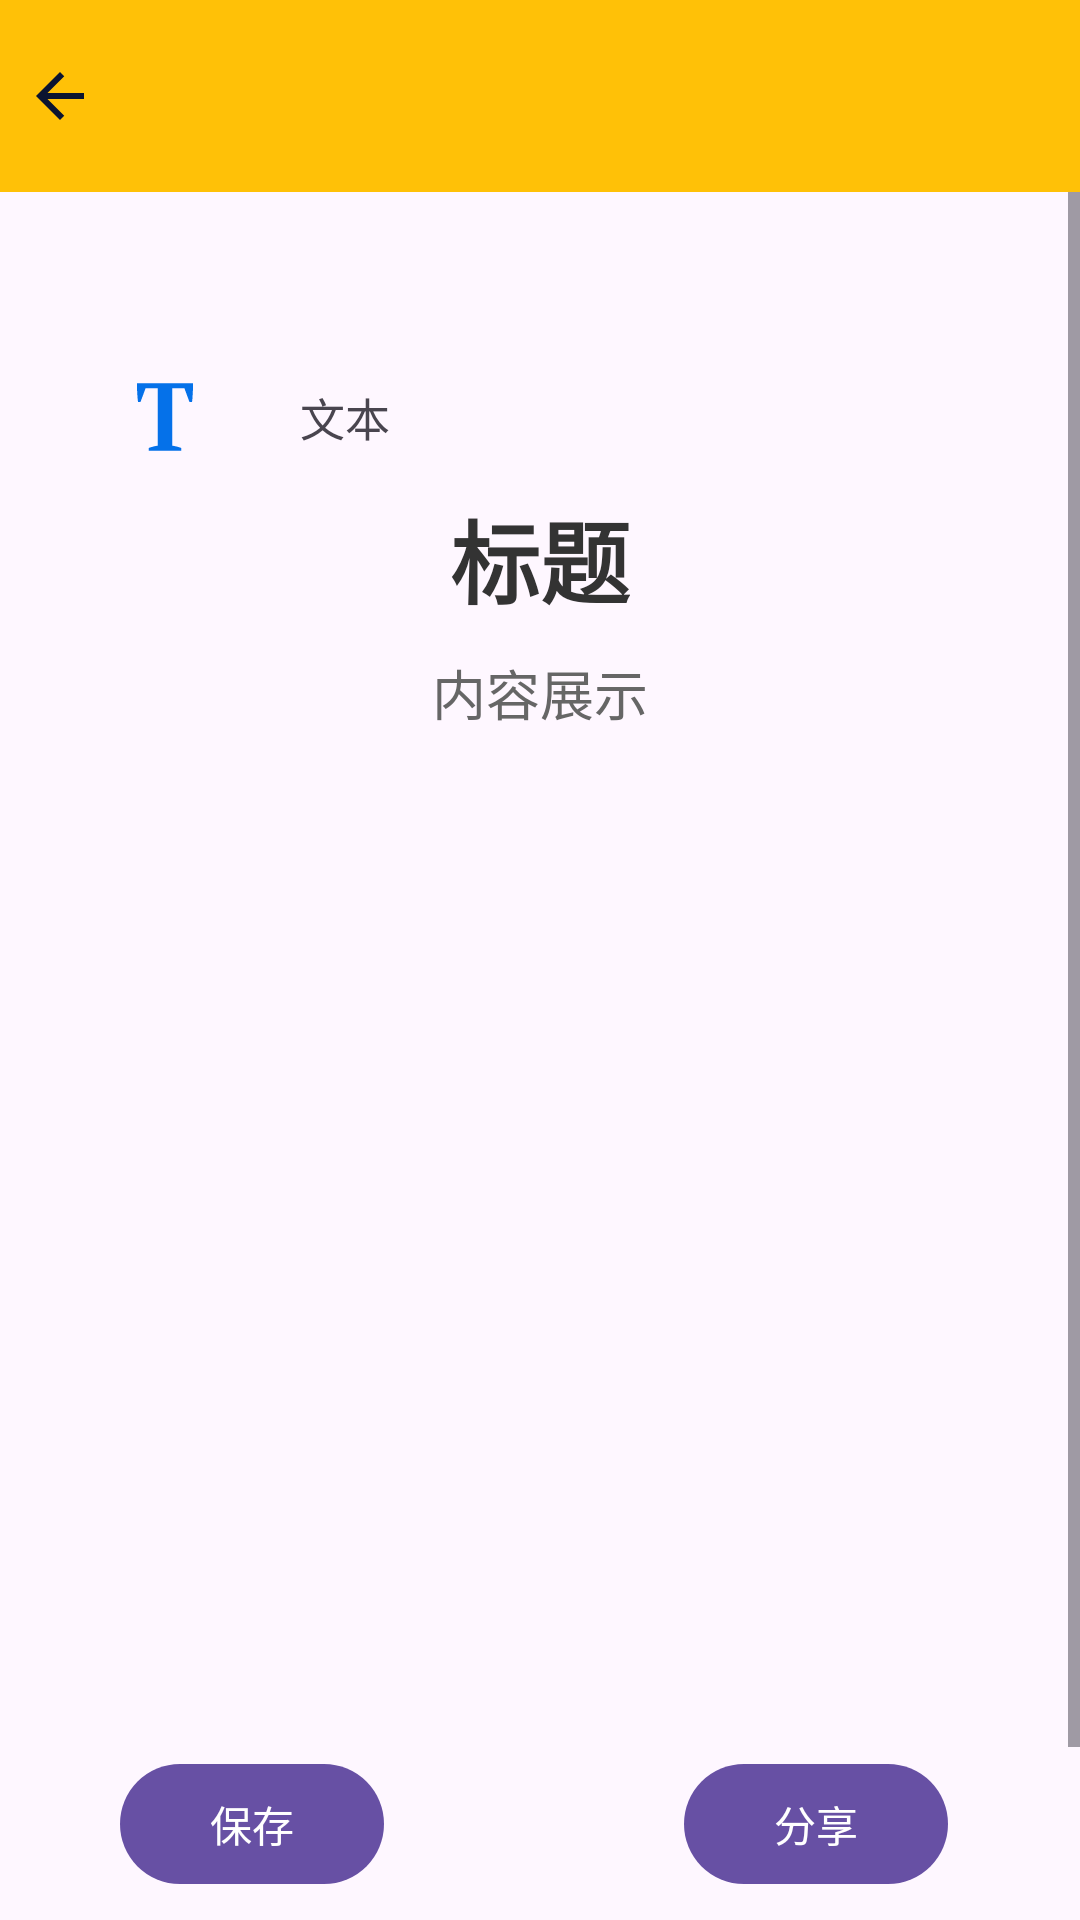

Screen size 1080*1920. Icon name, then its box in pixels as (x1, y1, x2, y2):
arrow back: (36, 72, 84, 120)
text: (137, 383, 193, 451)
